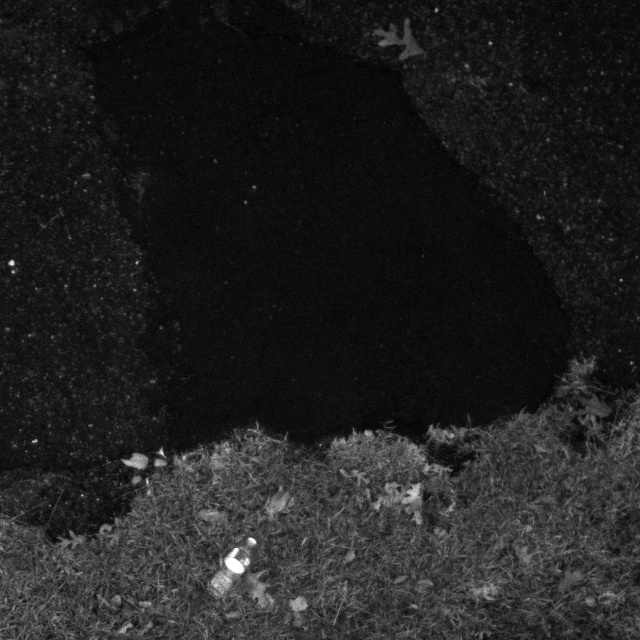bottle: (199, 528, 263, 602)
